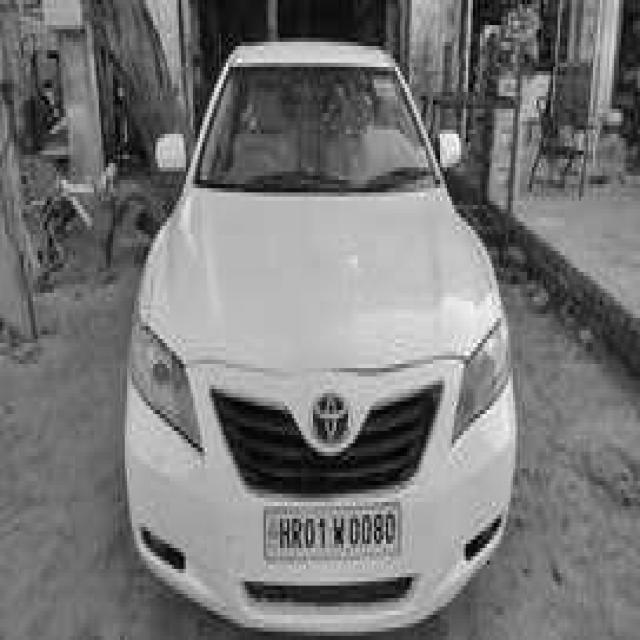car: (120, 42, 525, 640)
license-plate: (262, 502, 402, 569)
